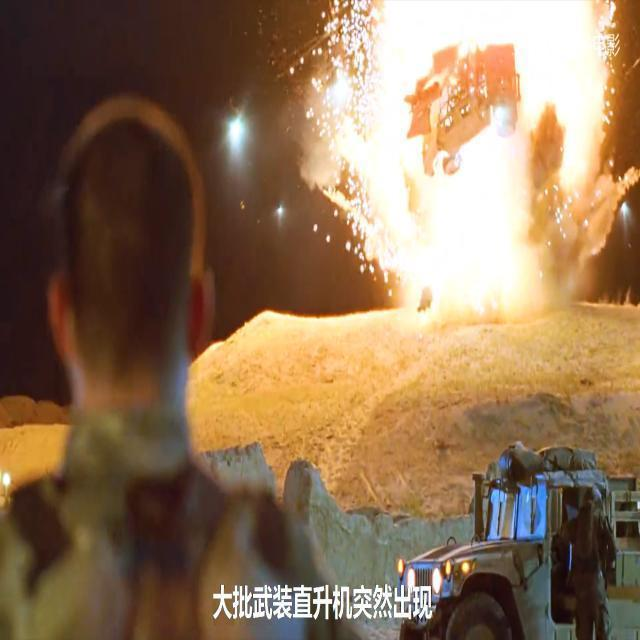fire: (302, 0, 630, 353)
